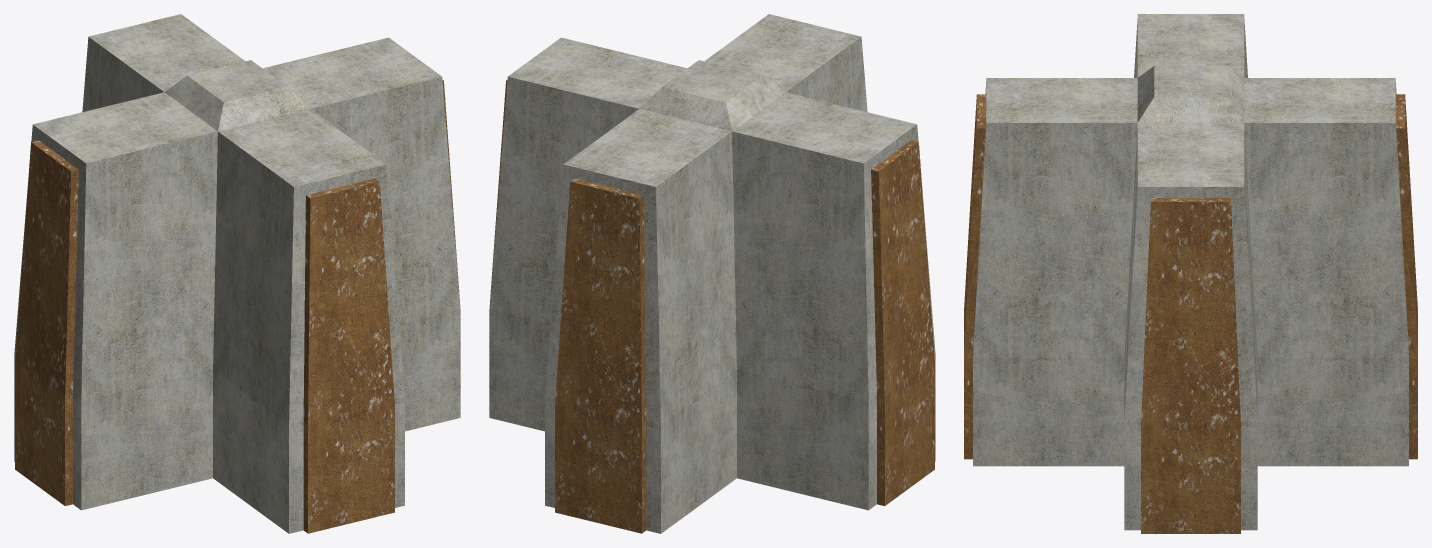
Rendered from mun_all_military_column_huge_rebl_s01_l0.fbx.
3 views of the same model, side by side, from view 1: azimuth 30°, elevation 25°; view 2: azimuth 150°, elevation 25°; view 3: azimuth 270°, elevation 25° (orthographic).
Visible parts, largest first — view 1: mesh_node; view 2: mesh_node; view 3: mesh_node.
Boxes of the visible parts, x1,y1,x2,y2 form: mesh_node: (14, 14, 460, 533); mesh_node: (489, 14, 935, 533); mesh_node: (964, 14, 1417, 533).
Size of the model in its own units: 8.53 by 7.4 by 8.53.
